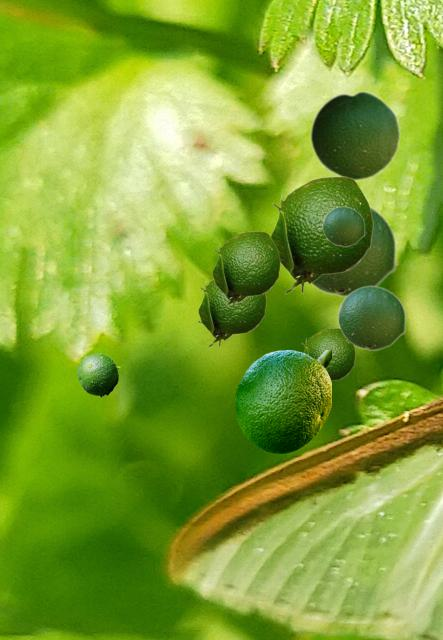dalandan: (271, 176, 372, 293), (235, 350, 330, 452), (309, 90, 400, 181), (310, 205, 396, 297), (211, 231, 279, 308), (197, 279, 265, 346), (337, 285, 405, 350), (301, 328, 354, 381), (77, 353, 119, 396), (322, 206, 364, 246)
